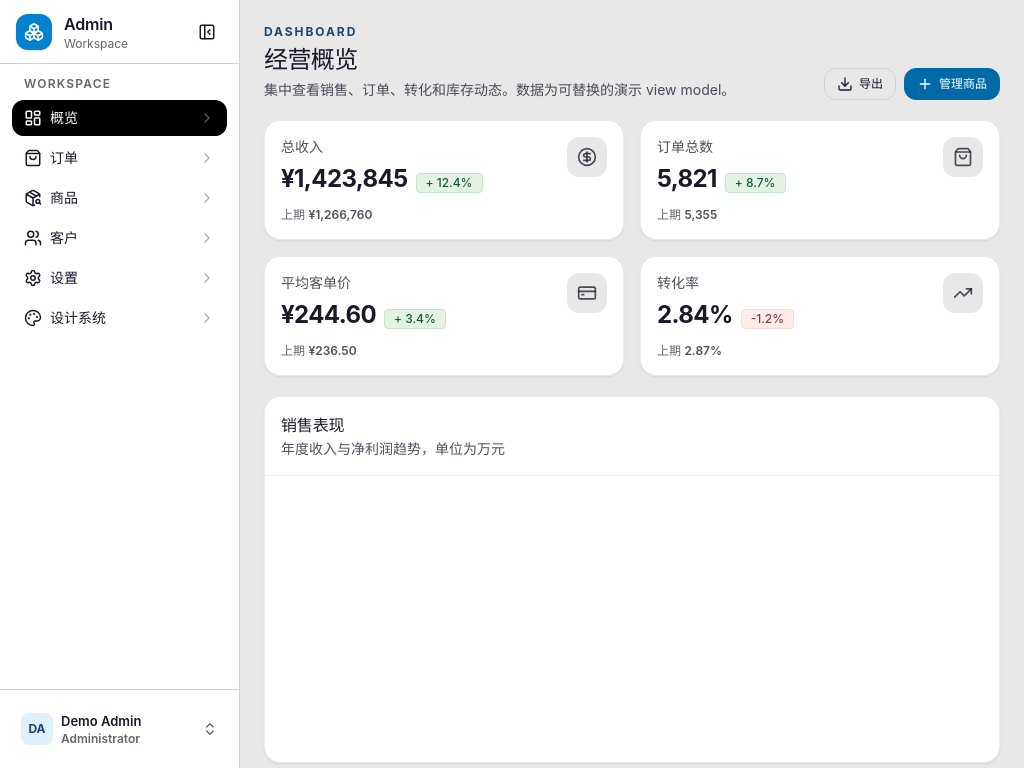
Test: admin dashboard scaffold › keeps list search, status filtering, reset, export, and create actions consistent
Click the link "商品" at (33, 198), box x1=24 y1=189 x2=215 y2=207
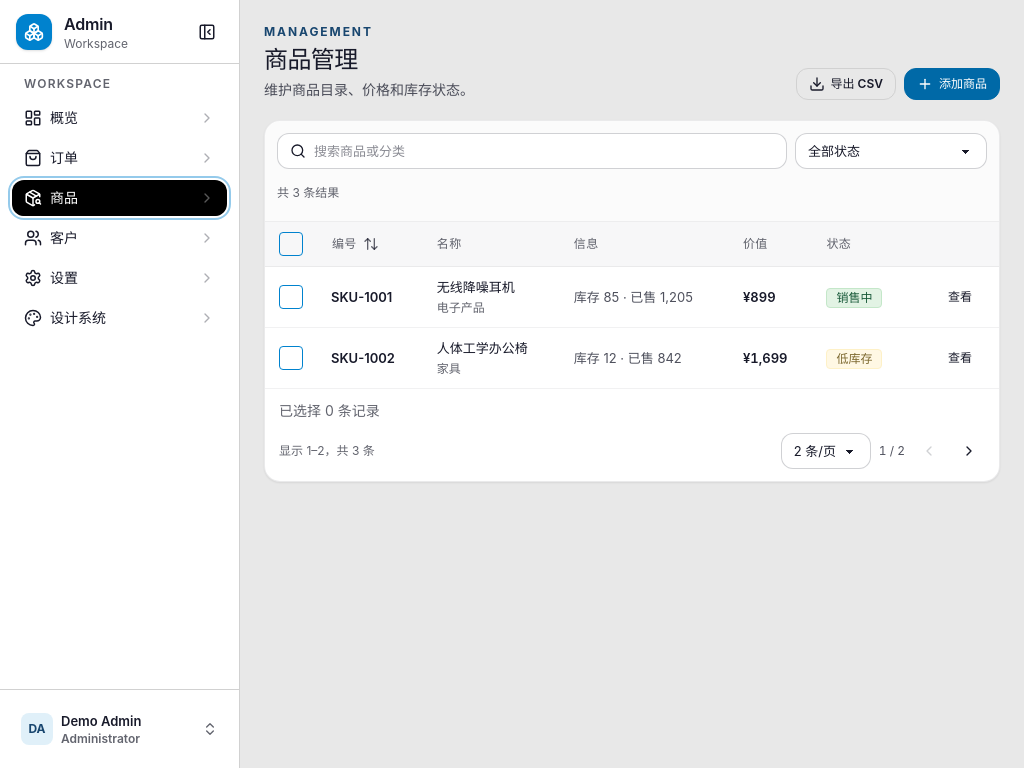
Result: the text "SKU-1001" is shown at x1=331 y1=289 x2=392 y2=305
Result: the button "导出 CSV" is enabled at x1=796 y1=68 x2=896 y2=100
Result: the button "添加商品" is enabled at x1=904 y1=68 x2=1000 y2=100
Select "低库存" in the dropdown named "按状态筛选" at (891, 151), box x1=795 y1=133 x2=987 y2=169
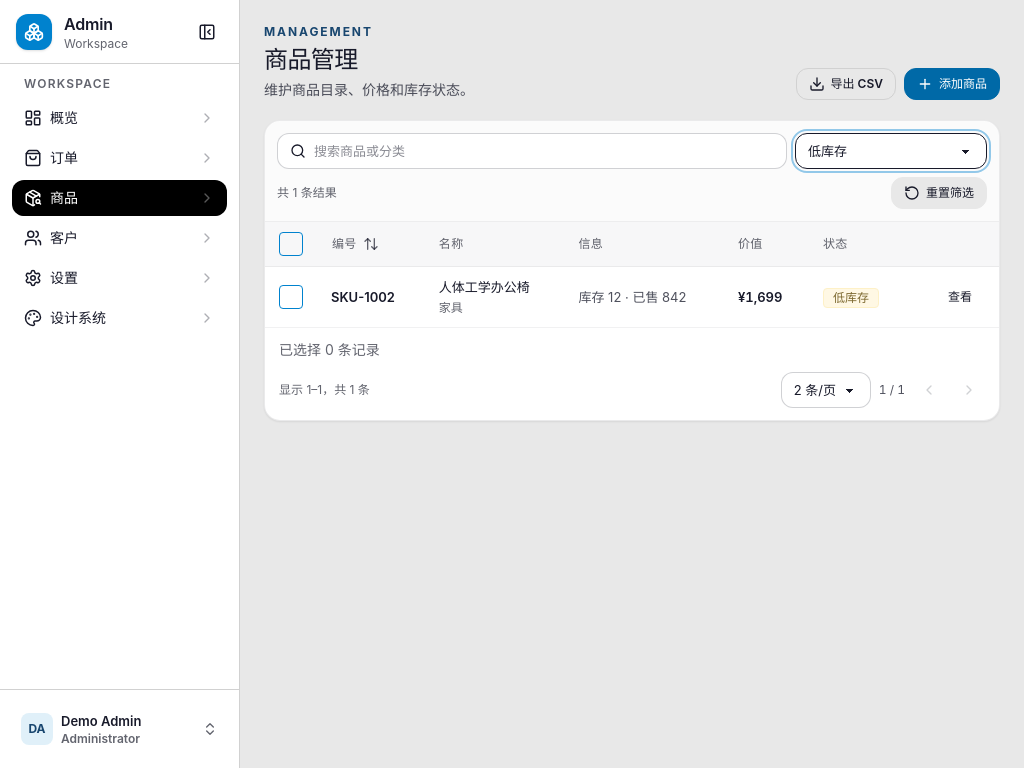
Result: the text "SKU-1002" is shown at x1=331 y1=289 x2=395 y2=305
Result: the text "SKU-1001" is gone
Result: the button "重置筛选" is shown
Click the button "重置筛选" at (939, 193), box x1=891 y1=177 x2=987 y2=209
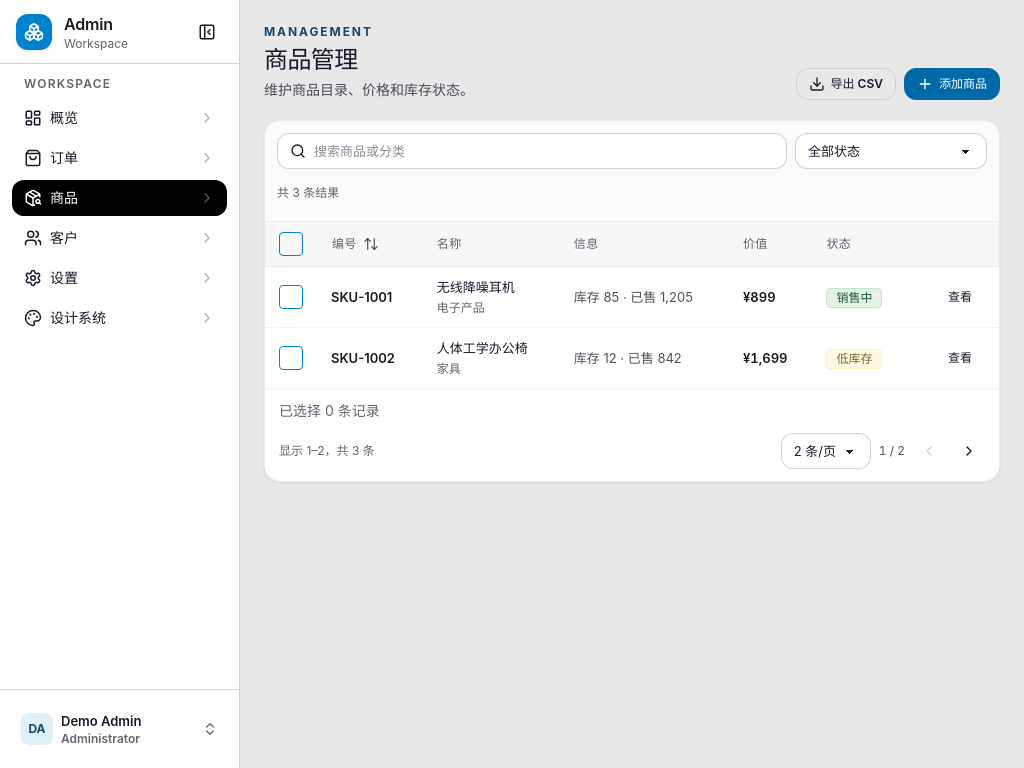
Result: the search field labelled "搜索商品或分类" is empty at x1=314 y1=134 x2=774 y2=168
Result: the text "SKU-1001" is shown at x1=331 y1=289 x2=392 y2=305
